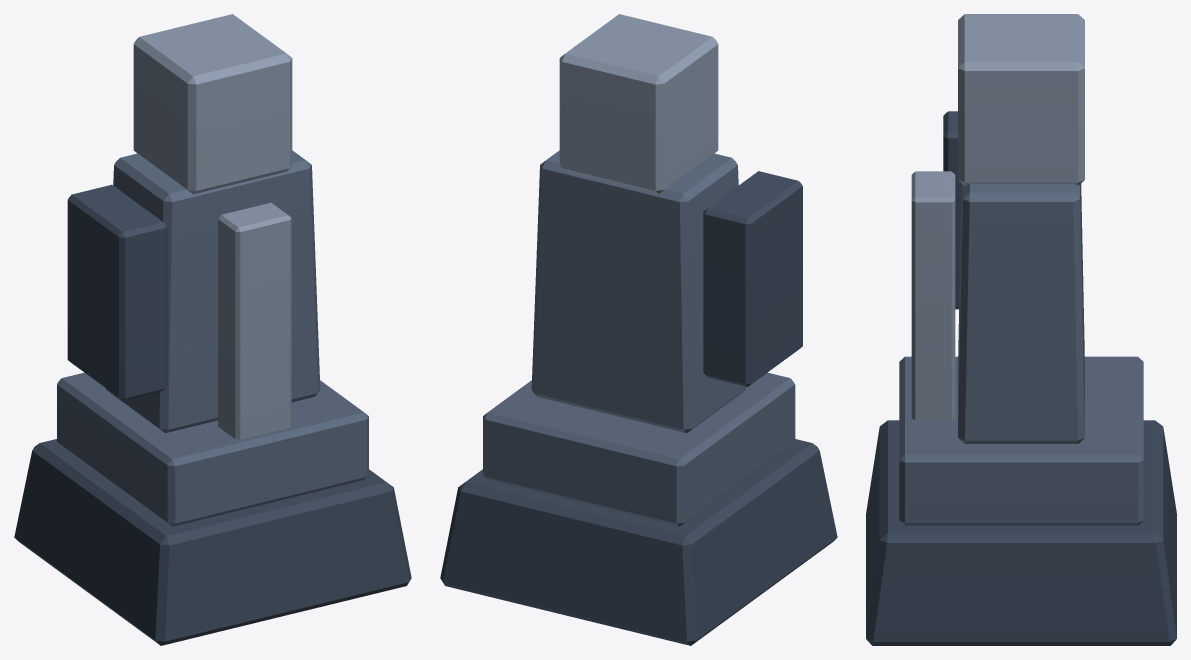
The model's file is statue.glb.
3 views of the same model, side by side, from view 1: azimuth 30°, elevation 25°; view 2: azimuth 150°, elevation 25°; view 3: azimuth 270°, elevation 25° (orthographic). The views are drawn at different scales.
Visible parts, largest first — view 1: statue; view 2: statue; view 3: statue.
Boxes of the visible parts, x1,y1,x2,y2 form: statue: (14, 14, 411, 645); statue: (440, 14, 837, 645); statue: (866, 14, 1176, 645).
Bounding box in the file's own units: 0.638 × 1.23 × 0.636.
